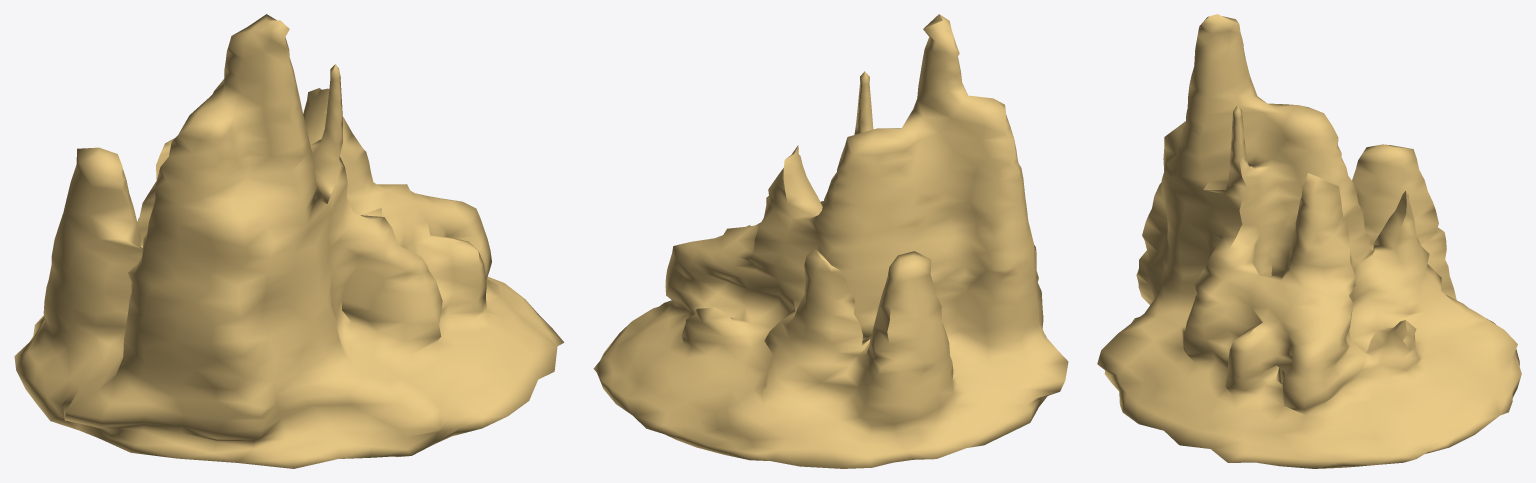
Rendered from DungeonRockObs.fbx.
3 views of the same model, side by side, from view 1: azimuth 30°, elevation 25°; view 2: azimuth 150°, elevation 25°; view 3: azimuth 270°, elevation 25° (orthographic). The views are drawn at different scales.
Parts seen in each view (by area): view 1: CaveRockPack1_Low3; view 2: CaveRockPack1_Low3; view 3: CaveRockPack1_Low3.
Part boxes in pixels (box(x1,y1,x2,y2)): CaveRockPack1_Low3: box(14, 14, 563, 468); CaveRockPack1_Low3: box(593, 14, 1068, 468); CaveRockPack1_Low3: box(1097, 14, 1521, 468).
Bounding box in the file's own units: 0.7561 × 0.6033 × 0.6955.
